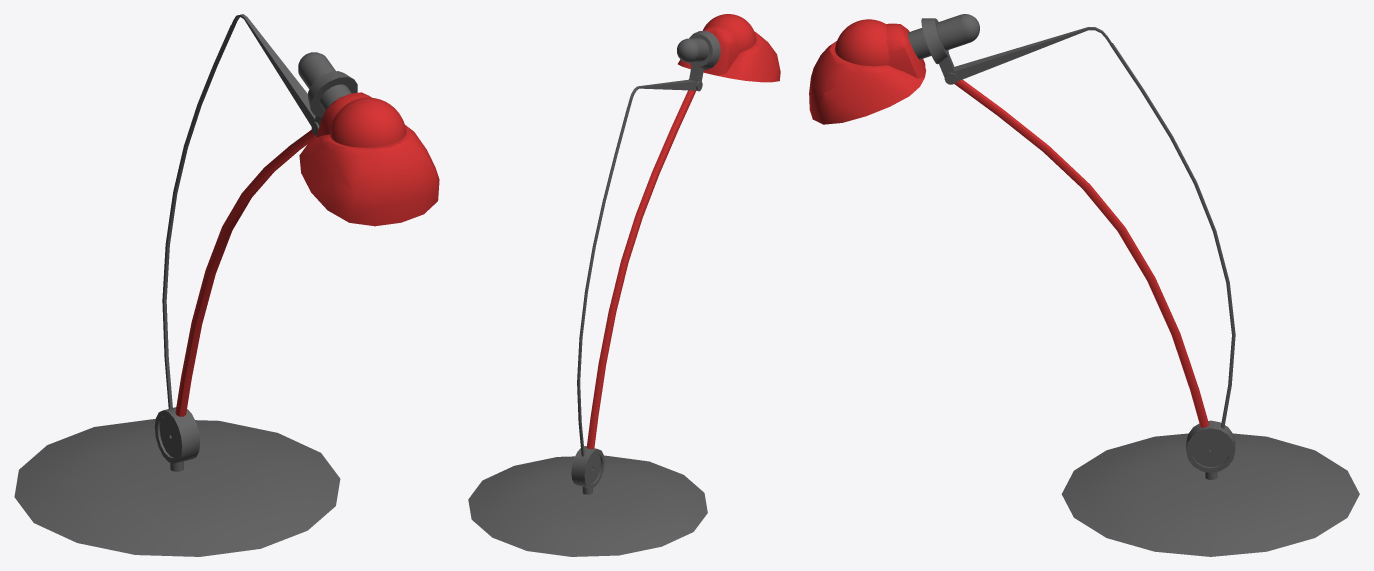
The model's file is sh_scopia_desk_lamp2.glb.
3 views of the same model, side by side, from view 1: azimuth 30°, elevation 25°; view 2: azimuth 150°, elevation 25°; view 3: azimuth 270°, elevation 25° (orthographic). The views are drawn at different scales.
Bounding box in the file's own units: 0.225 × 0.4 × 0.417.
